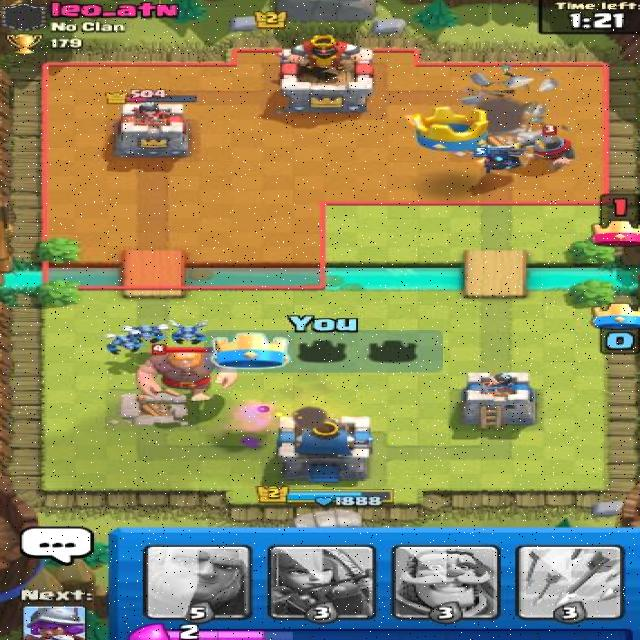Enemy-Giant: (134, 343, 240, 403)
Enemy-Knight: (514, 123, 578, 172)
Player-MiniPEKKA: (474, 145, 530, 178)
Player-Minion: (162, 318, 212, 346), (119, 323, 172, 345), (101, 332, 145, 356)
